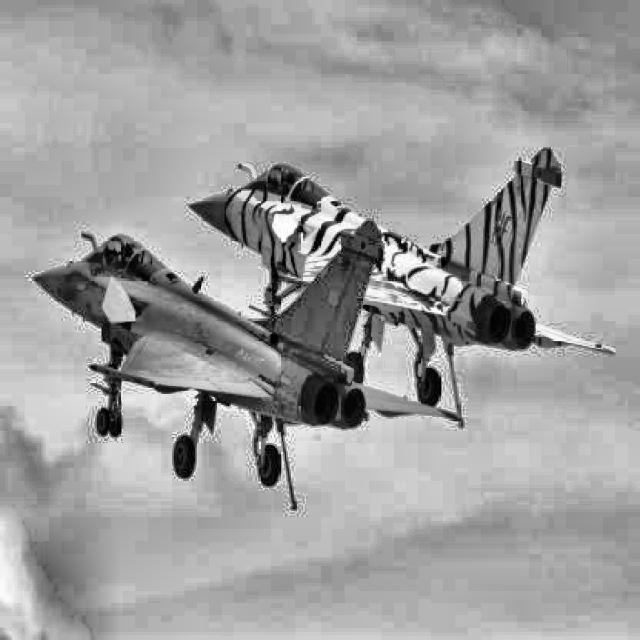Rafale: (32, 219, 460, 510), (188, 146, 615, 428)
